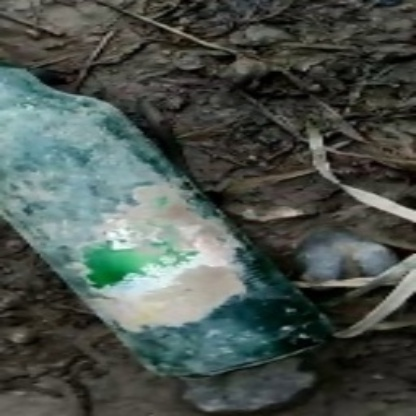bottle: (6, 64, 333, 371)
